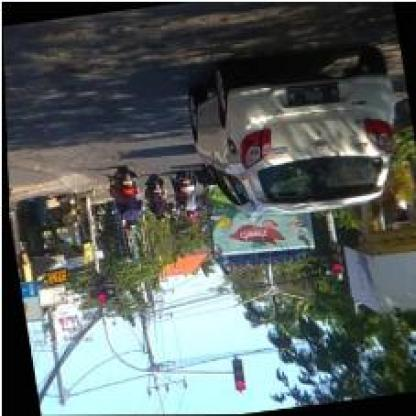red: (87, 270, 104, 305), (327, 242, 344, 275), (228, 358, 241, 390)
